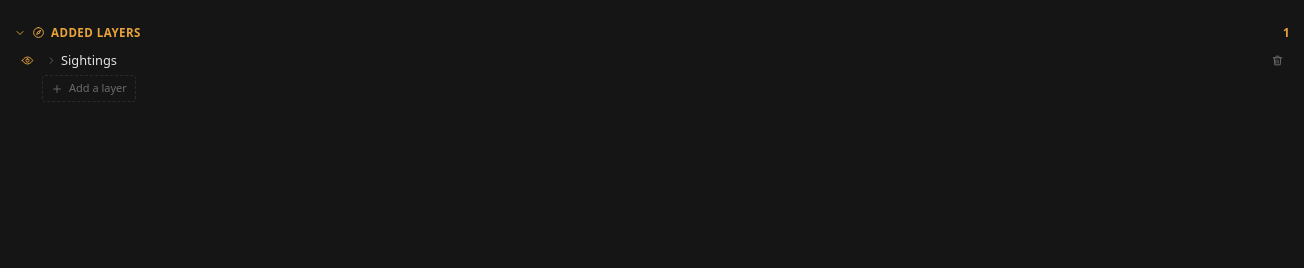
Test: finding a pin › says how many were found and how many are listed
Click the button with class "fold".
click(89, 60)  # box [46,49,1262,72]
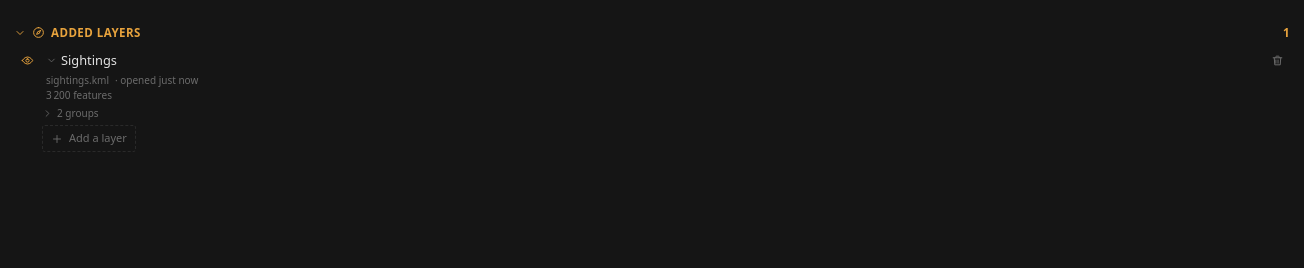
Click the button with class "legend-head".
click(57, 113)  # box [16,103,99,123]
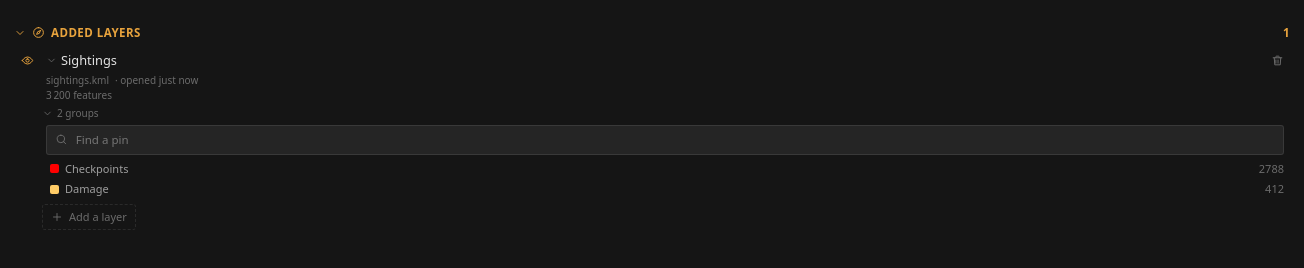
Type "gate" into the field with placeholder "Find a pin".
click(674, 140); type("gate")  # box [74,130,1275,150]
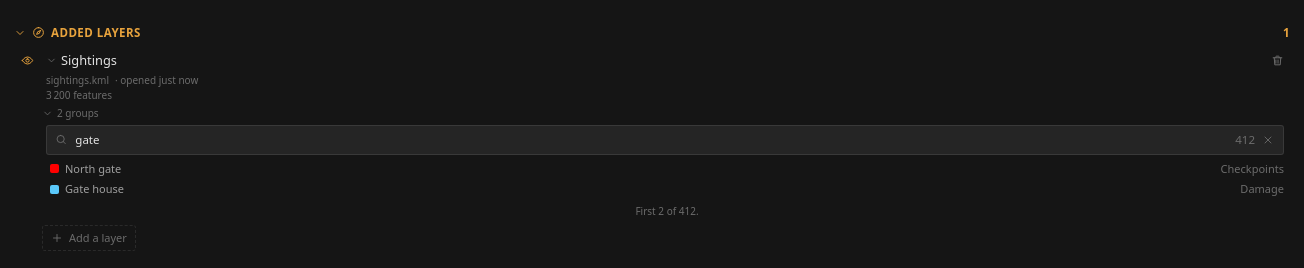
Now the text with class "search-count" reads "412", box [1235,132,1255,147]
Now the text "First 2 of 412." is shown, box [635,204,699,218]
